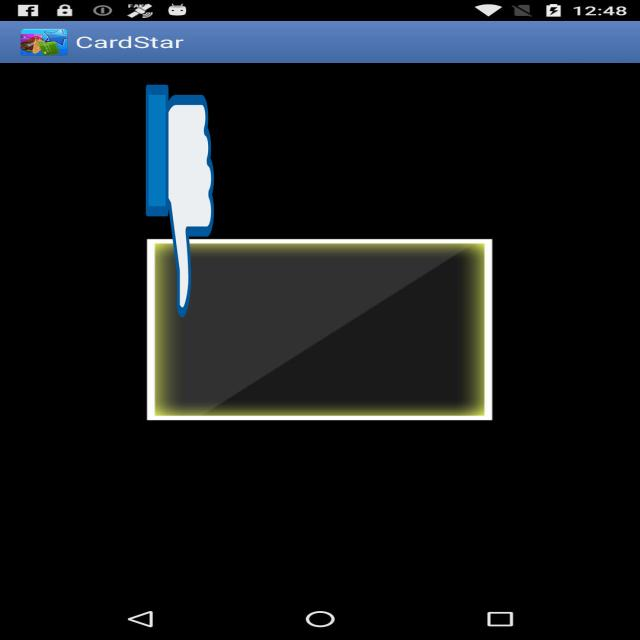obstruction: (146, 80, 214, 322)
